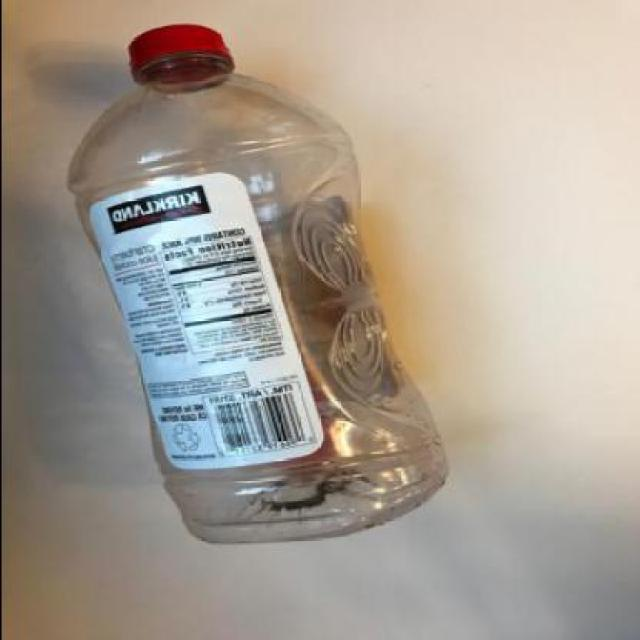PLASTIC: (63, 22, 445, 544), (127, 23, 230, 91)
